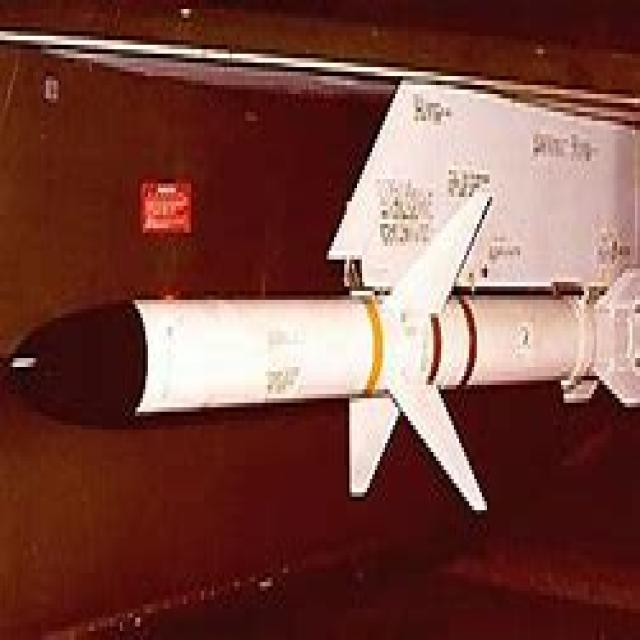missile: (5, 190, 640, 508)
